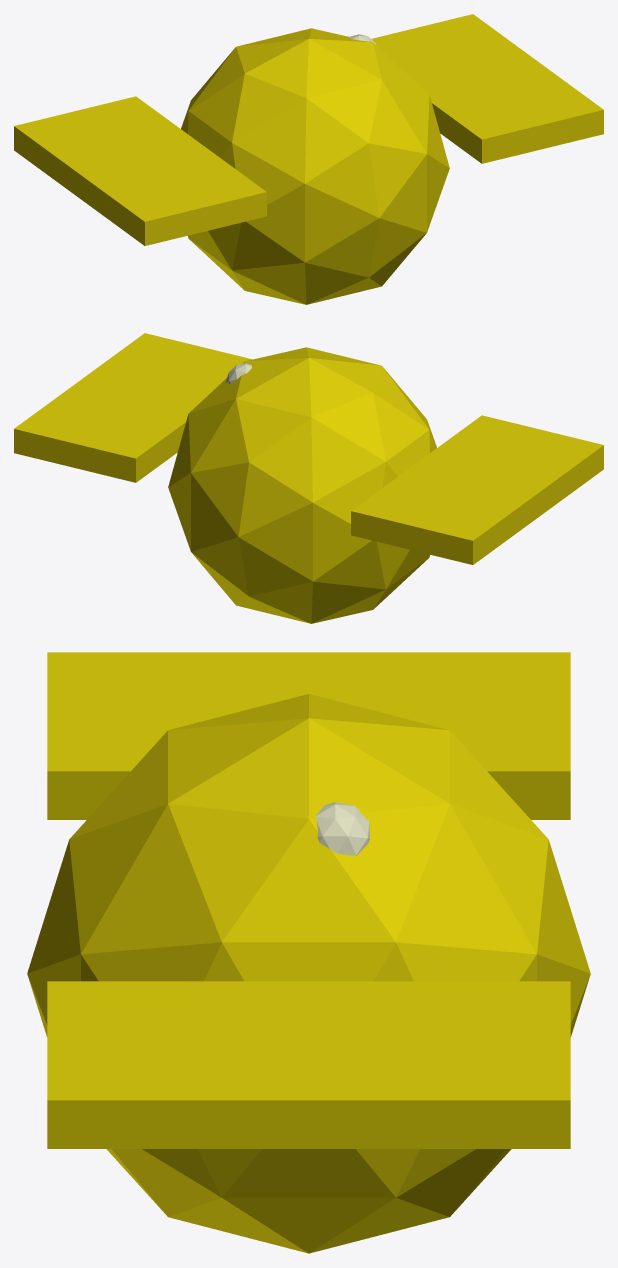
The model's file is golden_phoenix.glb.
3 renders of one model, top to bottom at view 1: azimuth 30°, elevation 25°; view 2: azimuth 150°, elevation 25°; view 3: azimuth 270°, elevation 25°, orthographic. The views are drawn at different scales.
Visible parts, largest first — view 1: geometry_0; view 2: geometry_0; view 3: geometry_0.
Boxes of the visible parts, left/top/right/bottom form: geometry_0: left=14, top=14, right=603, bottom=304; geometry_0: left=14, top=333, right=603, bottom=623; geometry_0: left=27, top=652, right=590, bottom=1253.
Size of the model in its own units: 1.58 by 0.84 by 0.84.
